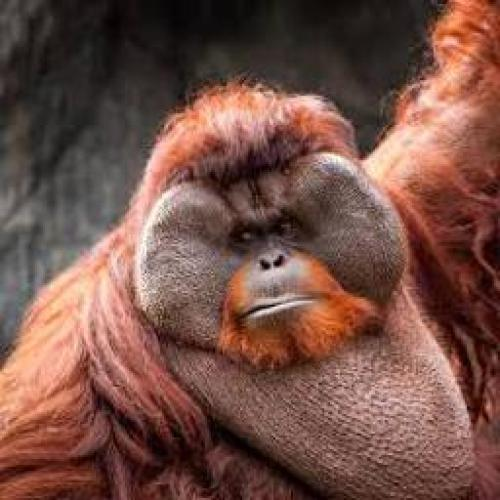orangutan-endangered: (17, 56, 500, 500)
